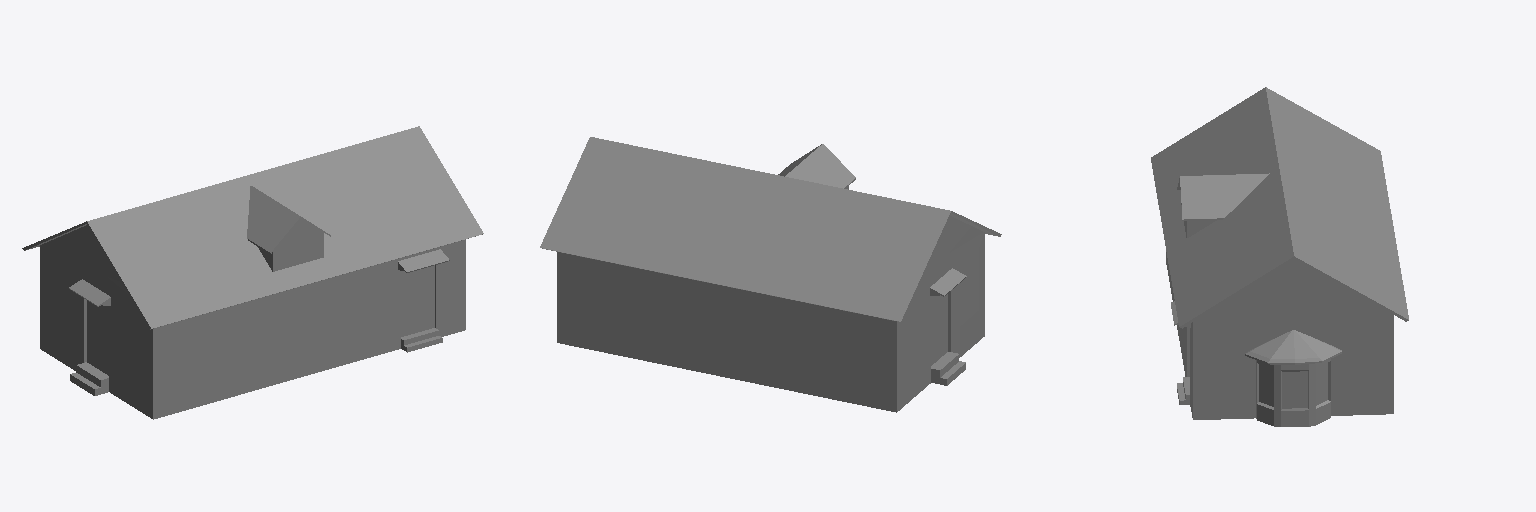
File: cottage.obj
3 renders of one model, left to right at view 1: azimuth 30°, elevation 25°; view 2: azimuth 150°, elevation 25°; view 3: azimuth 270°, elevation 25°, orthographic.
Parts seen in each view (by area): view 1: Cube_Cube_002; view 2: Cube_Cube_002; view 3: Cube_Cube_002.
Boxes of the visible parts, <box> form: Cube_Cube_002: <box>22,126,483,419</box>; Cube_Cube_002: <box>540,137,1001,412</box>; Cube_Cube_002: <box>1151,87,1408,426</box>.
Bounding box in the file's own units: 33.93 × 14.67 × 20.74.